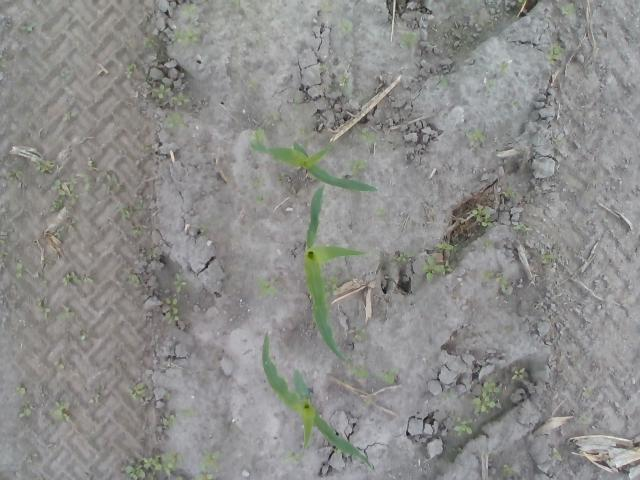Maize: (262, 329, 378, 474), (301, 181, 368, 363), (248, 142, 378, 194)
Weeds: (125, 450, 184, 480), (421, 241, 459, 281), (472, 377, 502, 414), (194, 446, 224, 480), (50, 177, 79, 212), (151, 84, 193, 107), (160, 294, 180, 324), (473, 203, 495, 228), (257, 272, 278, 296), (544, 46, 568, 66), (482, 270, 508, 288), (452, 415, 474, 436), (52, 399, 72, 420), (174, 29, 202, 44), (35, 296, 50, 322), (286, 446, 304, 466), (358, 126, 378, 144), (127, 382, 145, 400), (399, 30, 417, 48), (166, 111, 185, 128), (173, 271, 187, 294), (346, 158, 369, 172), (36, 158, 56, 174), (160, 412, 176, 431), (61, 272, 80, 288), (465, 127, 485, 142), (336, 17, 354, 33), (105, 174, 120, 193), (382, 365, 396, 385), (339, 69, 352, 89), (352, 327, 368, 343), (112, 206, 130, 220), (256, 175, 264, 206), (349, 366, 368, 379), (318, 0, 334, 15), (123, 63, 137, 80), (286, 96, 300, 113), (180, 2, 198, 15), (128, 272, 144, 286), (250, 126, 264, 142), (560, 2, 576, 16), (62, 110, 80, 122), (142, 35, 158, 48), (325, 274, 338, 290), (574, 414, 592, 424), (94, 384, 104, 401), (18, 406, 31, 419), (60, 304, 74, 316), (130, 224, 144, 236), (512, 368, 526, 380), (59, 65, 70, 80), (82, 174, 91, 192), (14, 262, 24, 278), (512, 222, 528, 232), (502, 463, 514, 476), (496, 60, 508, 73), (392, 253, 406, 264), (548, 446, 560, 458), (14, 384, 26, 396), (6, 169, 18, 181), (54, 360, 68, 370), (448, 446, 462, 456), (180, 407, 192, 418), (541, 254, 554, 264), (20, 24, 34, 32), (582, 386, 590, 400), (190, 15, 200, 26), (481, 240, 492, 250), (363, 398, 376, 406), (248, 80, 258, 90), (439, 78, 449, 88), (502, 191, 516, 198), (526, 191, 534, 203), (552, 136, 562, 145), (447, 392, 458, 400), (0, 248, 8, 258), (376, 207, 384, 217), (317, 63, 328, 70), (489, 79, 496, 89), (297, 128, 304, 137), (0, 54, 5, 66), (517, 0, 524, 4)
